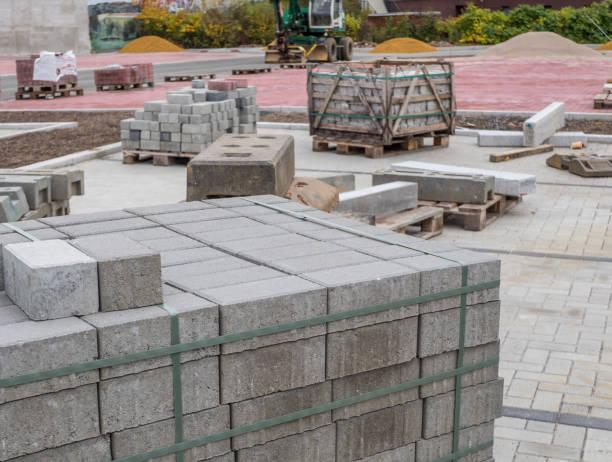Bricks: (104, 359, 218, 436), (218, 290, 330, 353), (100, 308, 213, 369), (6, 382, 102, 453), (108, 406, 228, 461), (219, 334, 320, 399), (234, 381, 339, 442), (328, 271, 429, 329), (330, 356, 420, 421), (331, 314, 418, 380), (91, 290, 220, 333), (426, 378, 500, 448), (1, 341, 98, 392), (338, 403, 422, 461), (421, 304, 504, 360), (419, 254, 500, 310), (418, 344, 494, 397), (170, 262, 290, 292), (204, 277, 327, 306), (66, 226, 153, 266), (268, 244, 377, 274), (11, 236, 90, 277), (304, 261, 413, 290), (2, 311, 96, 341), (157, 254, 249, 284), (397, 243, 490, 271), (352, 234, 451, 260), (213, 227, 311, 253), (192, 219, 282, 247), (34, 272, 96, 310), (102, 261, 162, 300), (241, 238, 341, 261), (148, 204, 237, 227), (149, 241, 221, 269), (171, 210, 253, 234), (61, 217, 159, 237), (319, 224, 400, 248), (39, 206, 131, 227), (4, 258, 33, 316), (296, 216, 373, 236), (267, 206, 330, 228), (243, 201, 301, 224), (218, 194, 291, 211), (129, 200, 214, 213)
